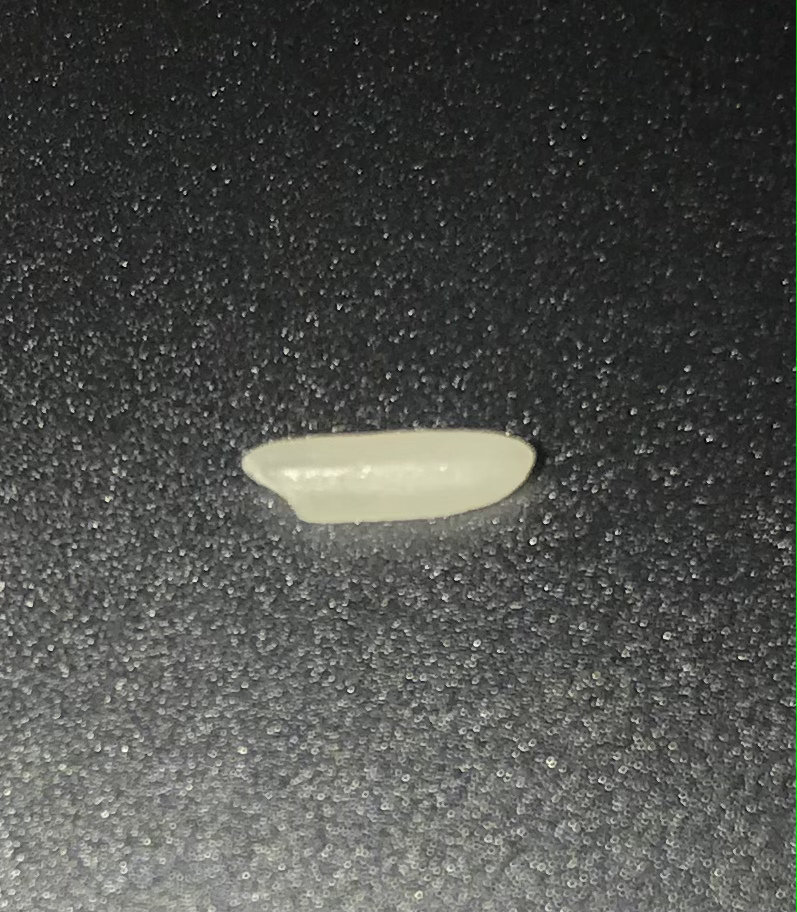Gao Thom My: (240, 387, 549, 553)
